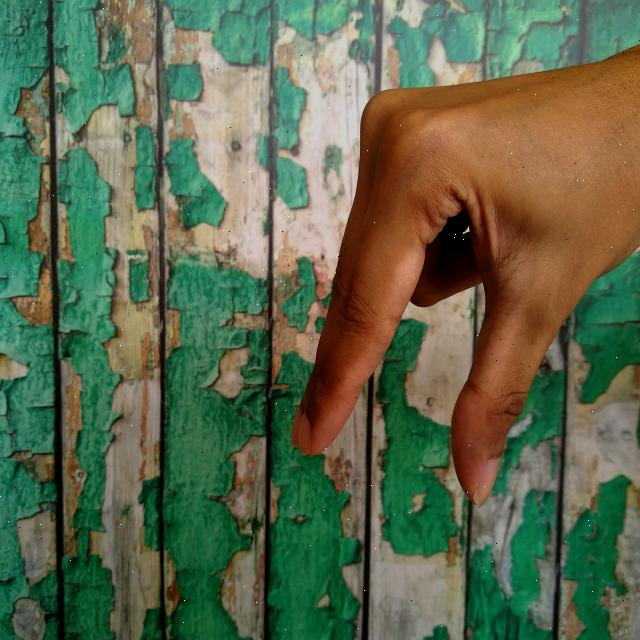Q: (280, 32, 640, 512)
